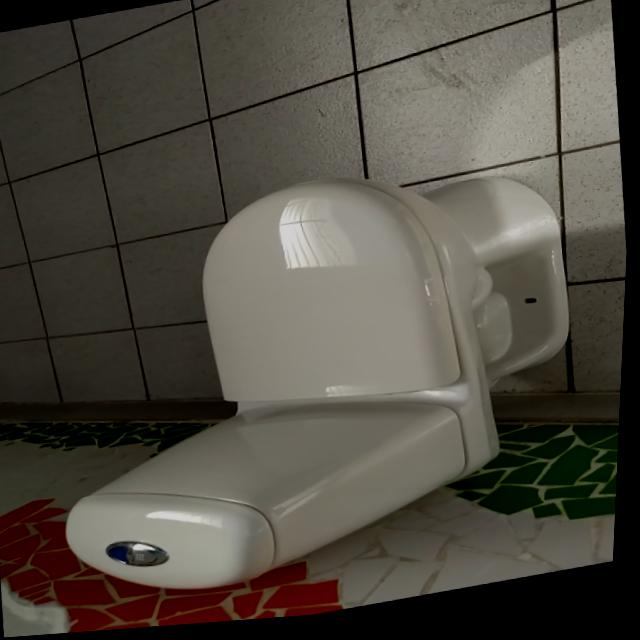toilet: (34, 142, 603, 618)
